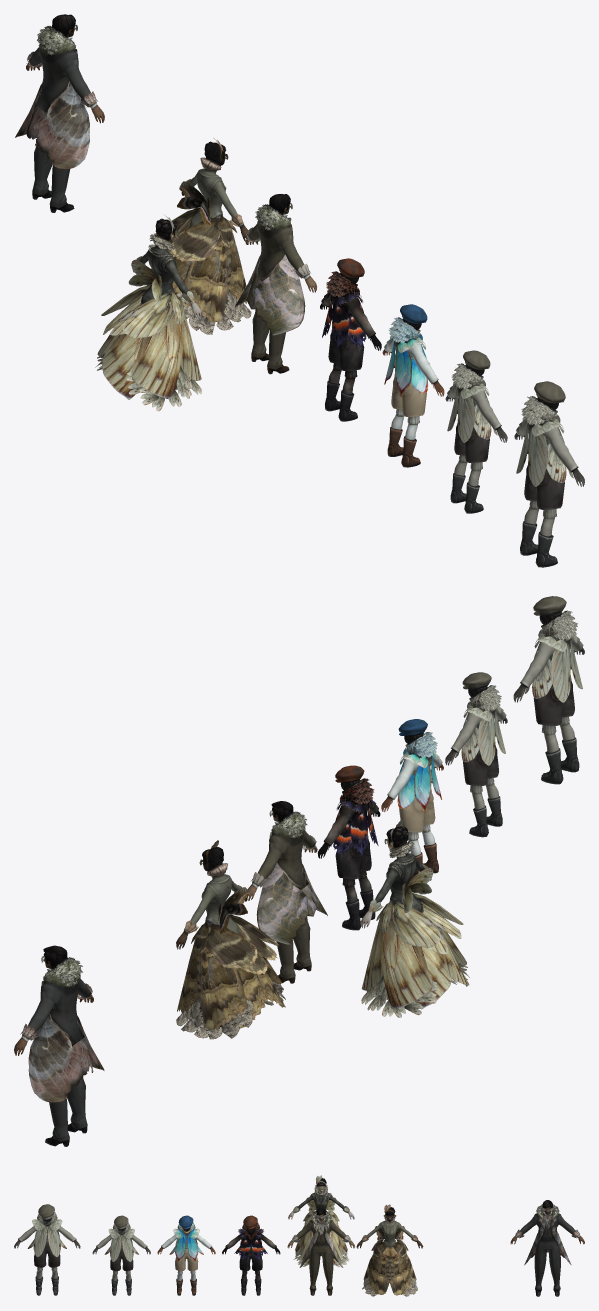
File: man_npc.fbx
3 renders of one model, top to bottom at view 1: azimuth 30°, elevation 25°; view 2: azimuth 150°, elevation 25°; view 3: azimuth 270°, elevation 25°, orthographic. The views are drawn at different scales.
Visible parts, largest first — view 1: RetopoGroup2.002, RetopoGroup2.000, RetopoGroup1.000, RetopoGroup1.001, RetopoGroup2.003, RetopoGroup2.005, RetopoGroup2.004, RetopoGroup2.001; view 2: RetopoGroup2.000, RetopoGroup2.002, RetopoGroup1.000, RetopoGroup1.001, RetopoGroup2.003, RetopoGroup2.005, RetopoGroup2.001, RetopoGroup2.004; view 3: RetopoGroup2.000, RetopoGroup1.000, RetopoGroup2.003, RetopoGroup1.001, RetopoGroup2.002, RetopoGroup2.005, RetopoGroup2.004, RetopoGroup2.001.
Part boxes in pixels (<box>): RetopoGroup2.002: <box>95,215,202,411</box>; RetopoGroup2.000: <box>147,138,251,334</box>; RetopoGroup1.000: <box>15,14,104,212</box>; RetopoGroup1.001: <box>234,194,316,374</box>; RetopoGroup2.003: <box>514,381,584,567</box>; RetopoGroup2.005: <box>445,350,507,513</box>; RetopoGroup2.004: <box>382,304,444,467</box>; RetopoGroup2.001: <box>320,258,381,421</box>; RetopoGroup2.000: <box>176,840,285,1039</box>; RetopoGroup2.002: <box>360,819,469,1017</box>; RetopoGroup1.000: <box>14,945,104,1146</box>; RetopoGroup1.001: <box>247,801,327,983</box>; RetopoGroup2.003: <box>513,596,584,784</box>; RetopoGroup2.005: <box>445,672,507,837</box>; RetopoGroup2.001: <box>317,765,380,930</box>; RetopoGroup2.004: <box>381,719,443,879</box>; RetopoGroup2.000: <box>356,1204,423,1296</box>; RetopoGroup1.000: <box>510,1200,584,1296</box>; RetopoGroup2.003: <box>14,1204,80,1295</box>; RetopoGroup1.001: <box>287,1208,354,1295</box>; RetopoGroup2.002: <box>288,1175,354,1267</box>; RetopoGroup2.005: <box>92,1215,150,1295</box>; RetopoGroup2.004: <box>157,1215,215,1295</box>; RetopoGroup2.001: <box>222,1215,280,1295</box>.
Bounding box in the file's own units: 1.77 × 1.54 × 8.32.
